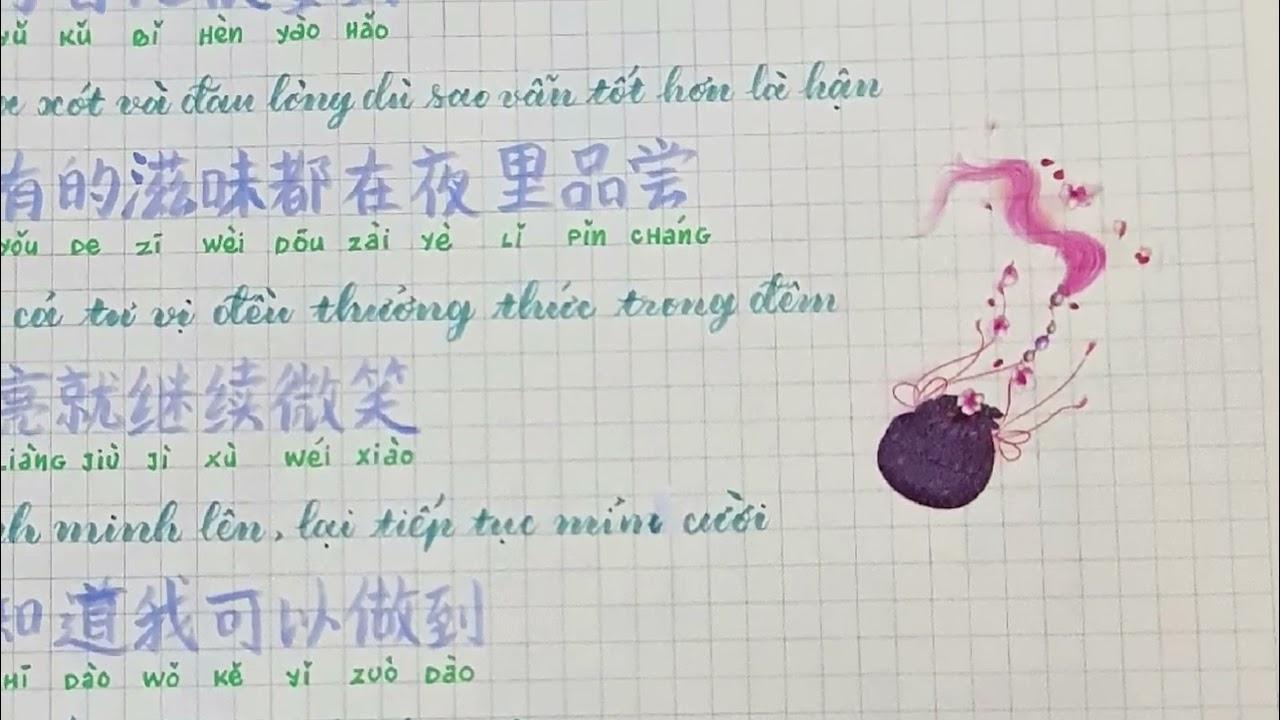text: (0, 56, 885, 132), (12, 267, 842, 347), (0, 133, 703, 225), (1, 485, 773, 554), (2, 569, 489, 661), (0, 353, 423, 443), (0, 212, 713, 263), (2, 651, 477, 696), (0, 435, 416, 476), (4, 10, 391, 50)
